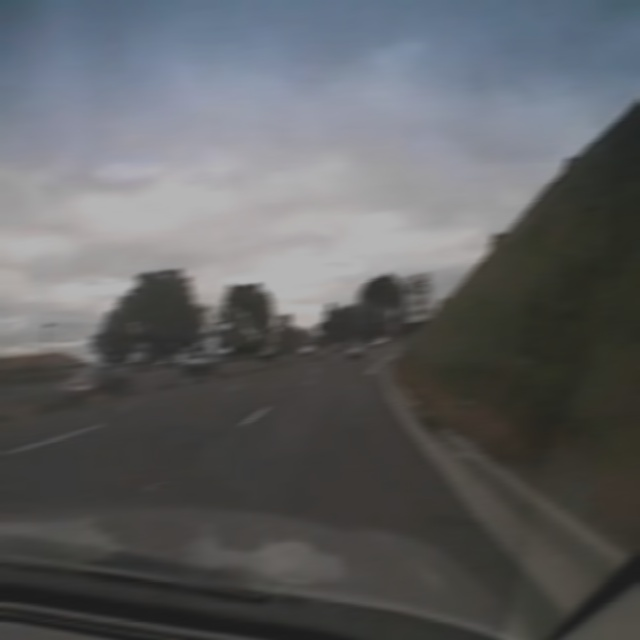zoneAhead45: (402, 268, 432, 324)
